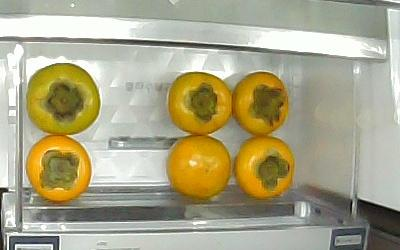persimmon: (27, 63, 101, 137), (26, 134, 92, 203), (168, 71, 232, 136), (166, 135, 231, 198), (232, 72, 289, 137), (235, 137, 293, 198)
